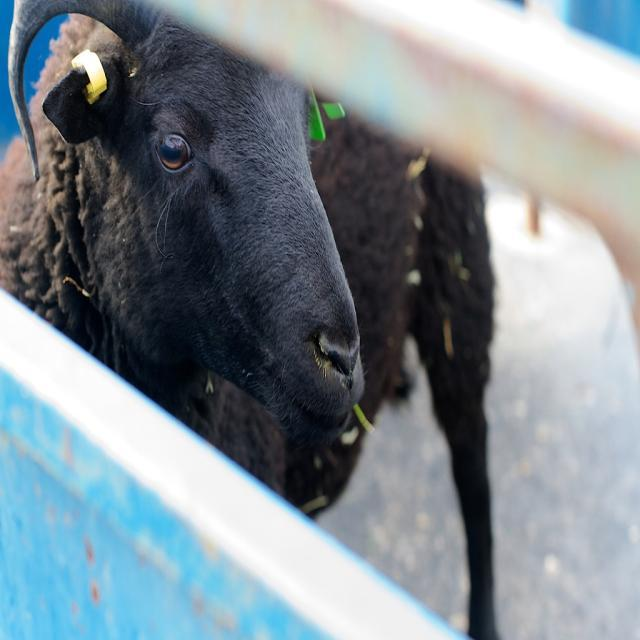Goat: (1, 0, 501, 637)
